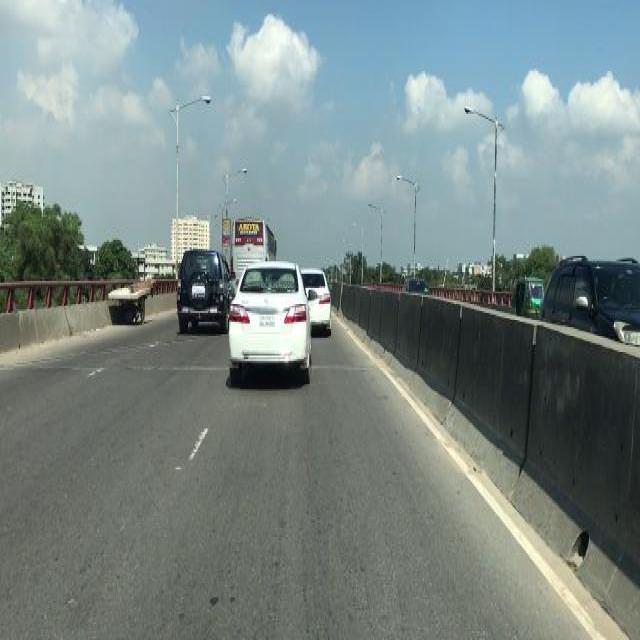15: (540, 252, 640, 334), (176, 245, 228, 331), (400, 274, 434, 290)
17: (512, 276, 540, 318)
20: (116, 282, 148, 322)
5: (227, 258, 313, 378), (315, 262, 331, 340)
Truck: (228, 212, 278, 260)
